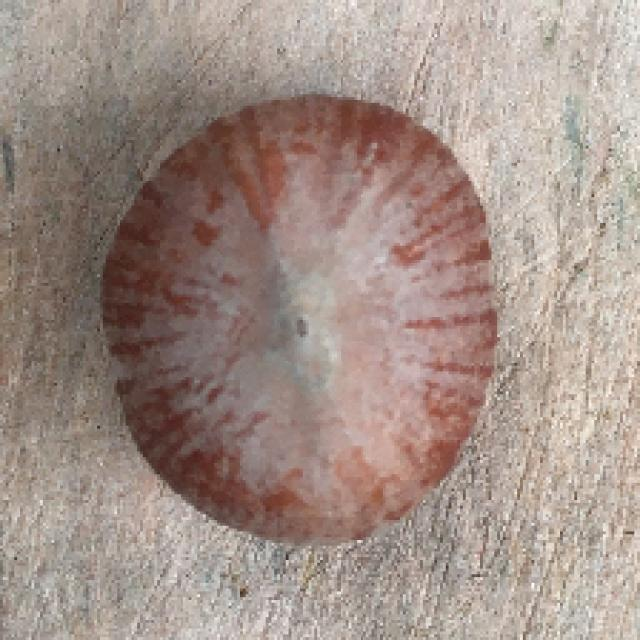qualityHazelnut: (86, 86, 503, 550)
